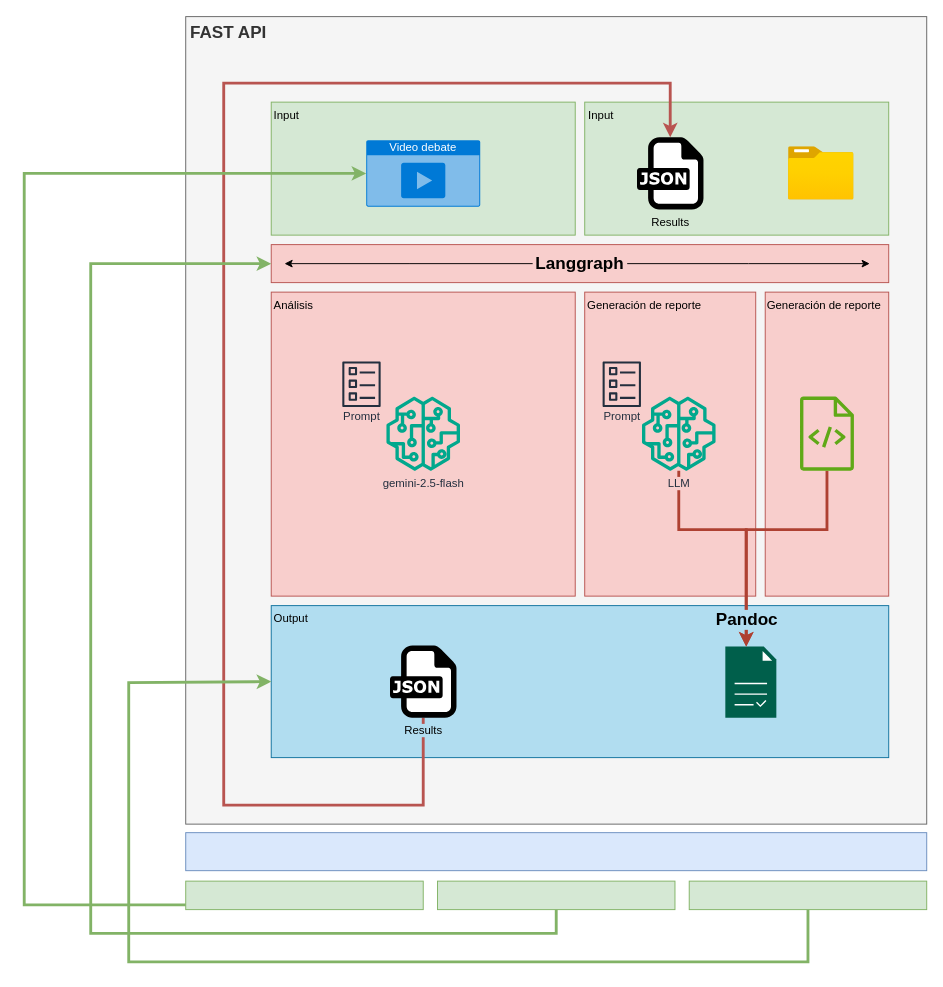
This 943x987 diagram has some shape labels left out. Each missing label, with the centre of its shape:
"/results" goes at point 807,895.
"/status" goes at point 556,895.
"/upload" goes at point 304,895.
"Assets" goes at point 821,173.
"Endpoints" goes at point 556,851.
"Python code" goes at point 826,433.
"Reporte estructurado" goes at point 750,681.
